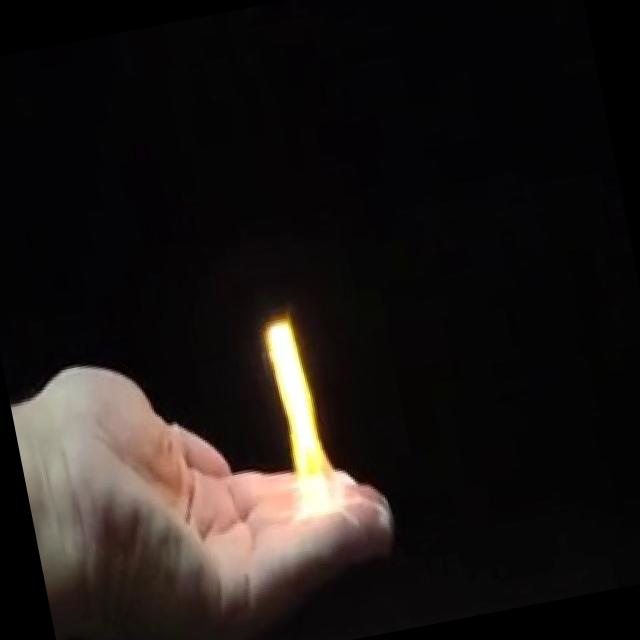Fire: (256, 302, 354, 540)
